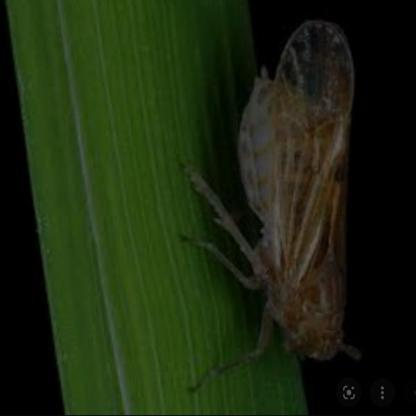brown-planthopper: (234, 18, 359, 361)
